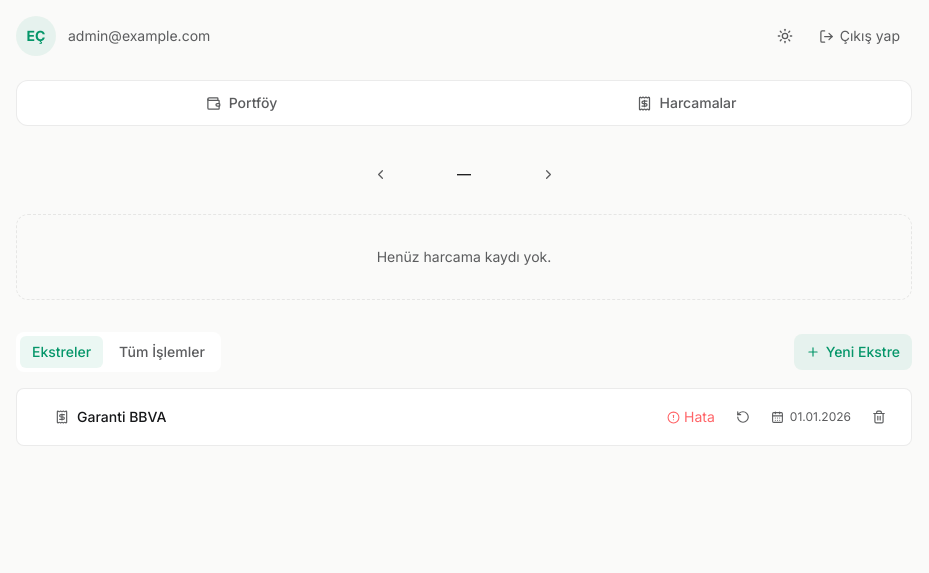
Statements › opens the upload form pre-filled with the same bank when retrying a failed statement
The image size is (929, 573).
Expected: the text "Garanti BBVA" is shown, [77, 407, 166, 427]
Step 1. Click the button named "Yeniden yükle" → (743, 417), box [727, 401, 759, 433]
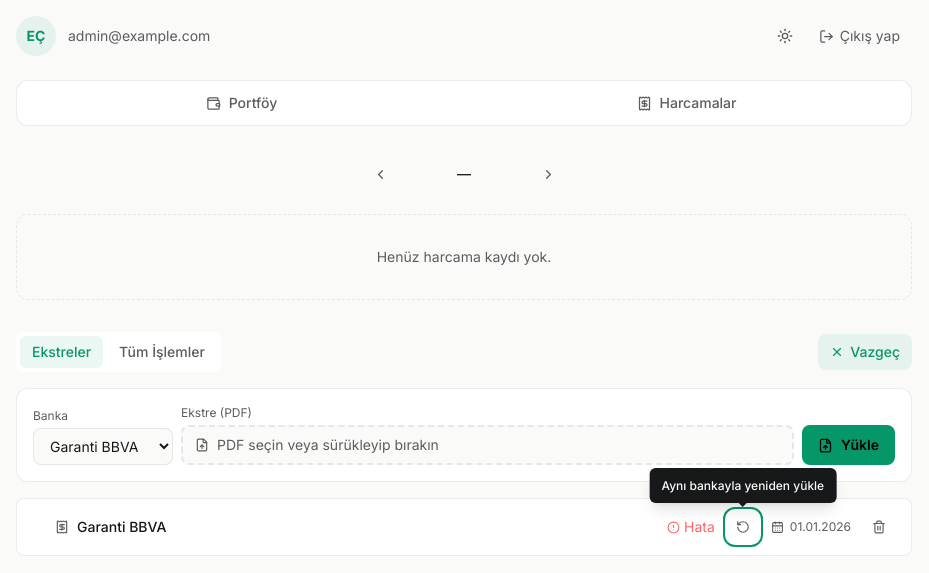
Expected: the dropdown shows "Garanti BBVA", [33, 428, 173, 465]
Expected: the button "Yükle" is shown, [802, 425, 895, 465]
